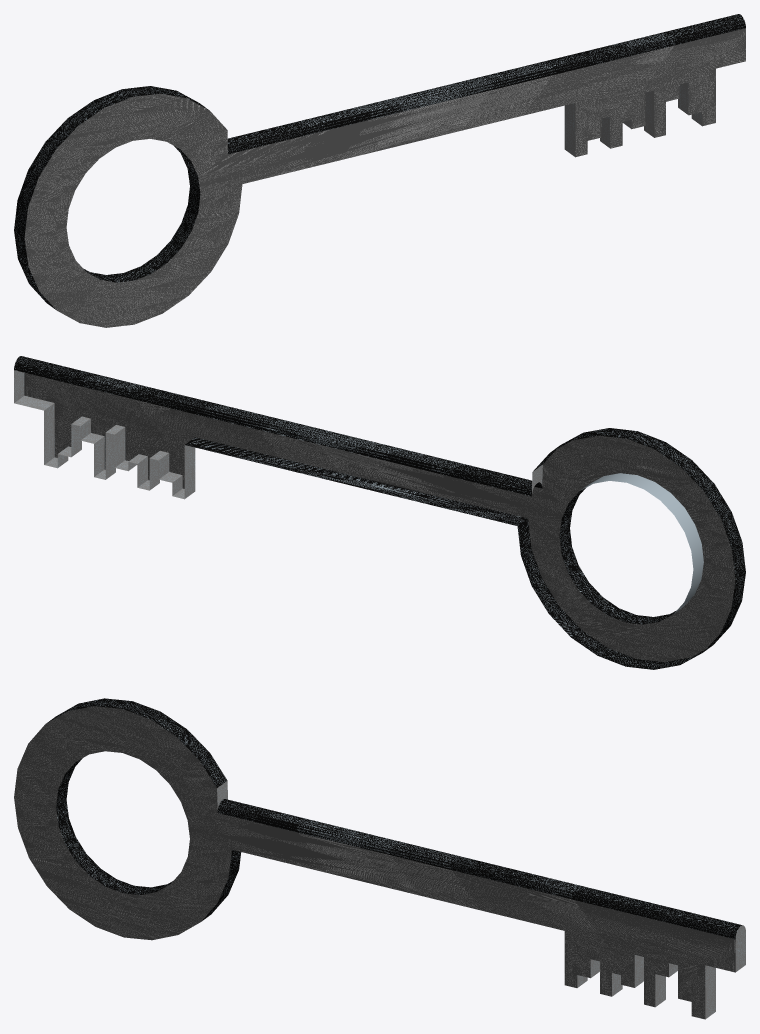
3 renders of one model, top to bottom at view 1: azimuth 30°, elevation 25°; view 2: azimuth 150°, elevation 25°; view 3: azimuth 330°, elevation 25°, orthographic.
Parts seen in each view (by area): view 1: SketchUp (×5); view 2: SketchUp (×5); view 3: SketchUp (×5).
Boxes of the visible parts, x1=… form: SketchUp (×5): x1=14, y1=14, x2=745, y2=327; SketchUp (×5): x1=14, y1=356, x2=745, y2=669; SketchUp (×5): x1=14, y1=698, x2=745, y2=1019.
Size of the model in its own units: 62.51 by 1.57 by 18.9.
